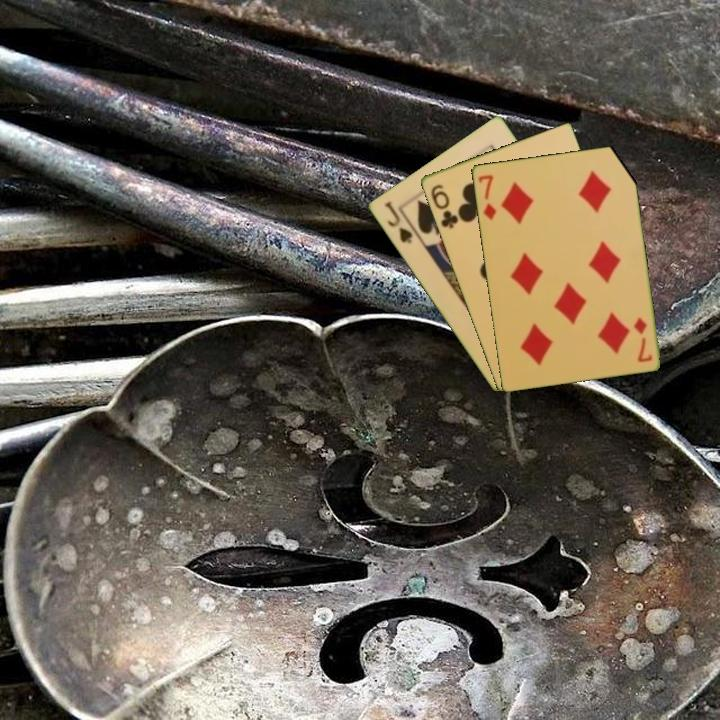6c: (427, 181, 461, 232)
7d: (630, 313, 655, 365), (474, 171, 499, 222)
Js: (380, 197, 415, 247)
